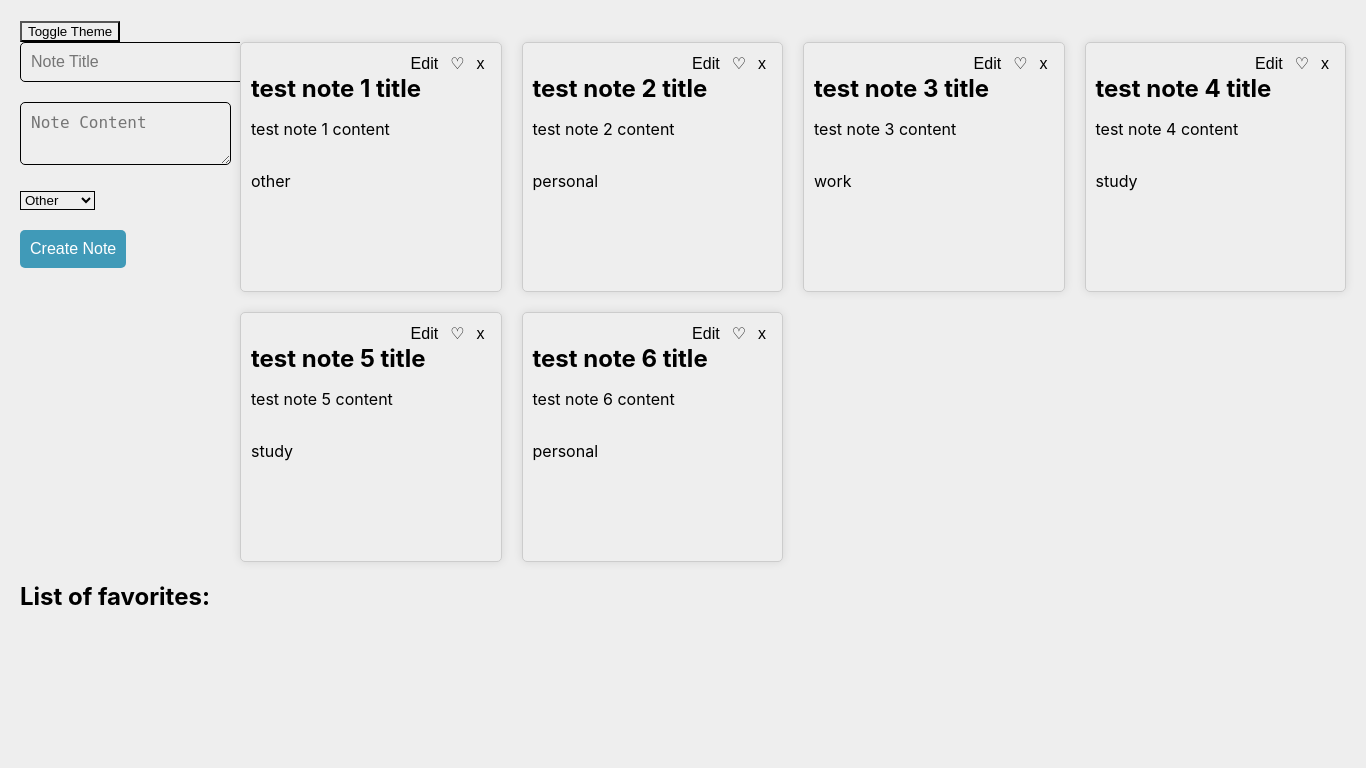
Test: Deleted Note › check if there are 0 sticky notes
This screenshot has width=1366, height=768.
Click the button named "delete-button". click: click(480, 64)
box: [470, 53, 490, 74]
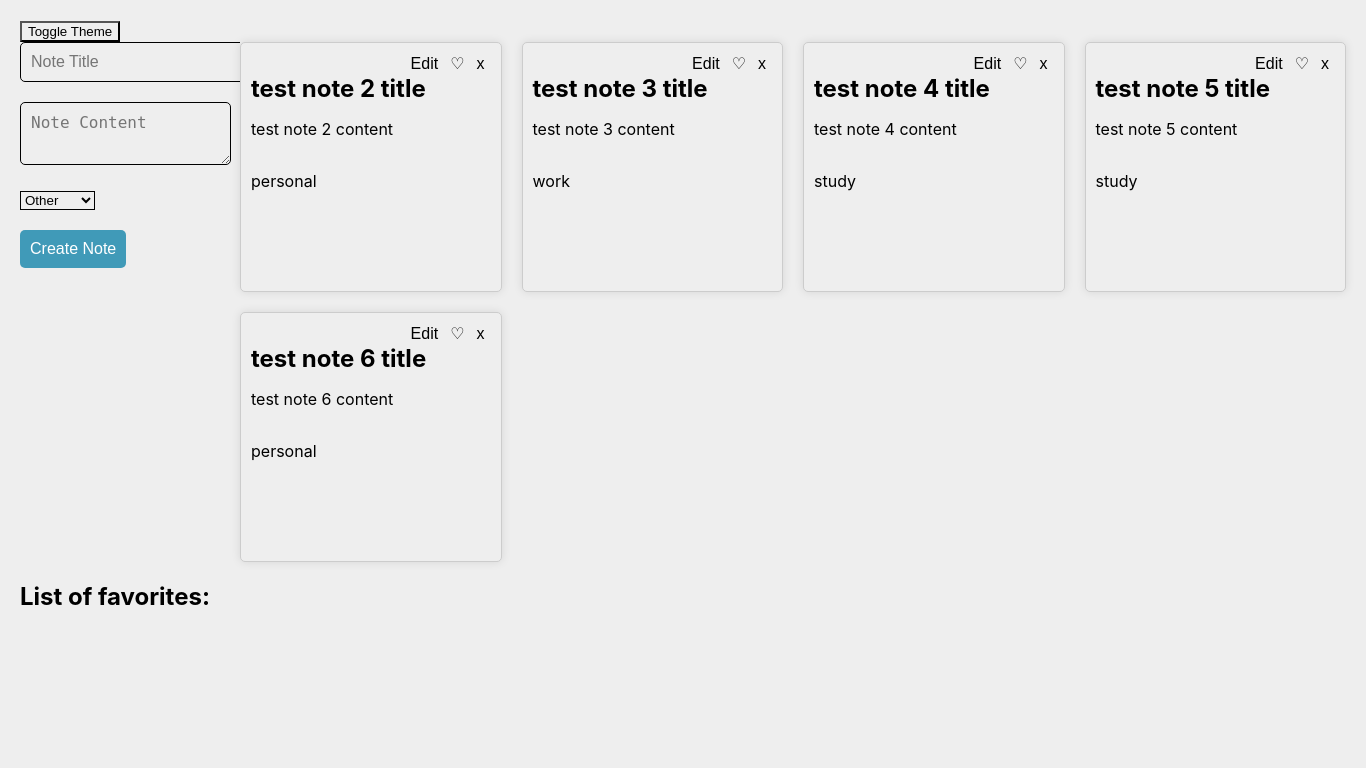
Result: the heading "test note 1 title" is gone
Click the button named "delete-button". click: click(480, 64)
box: [470, 53, 490, 74]
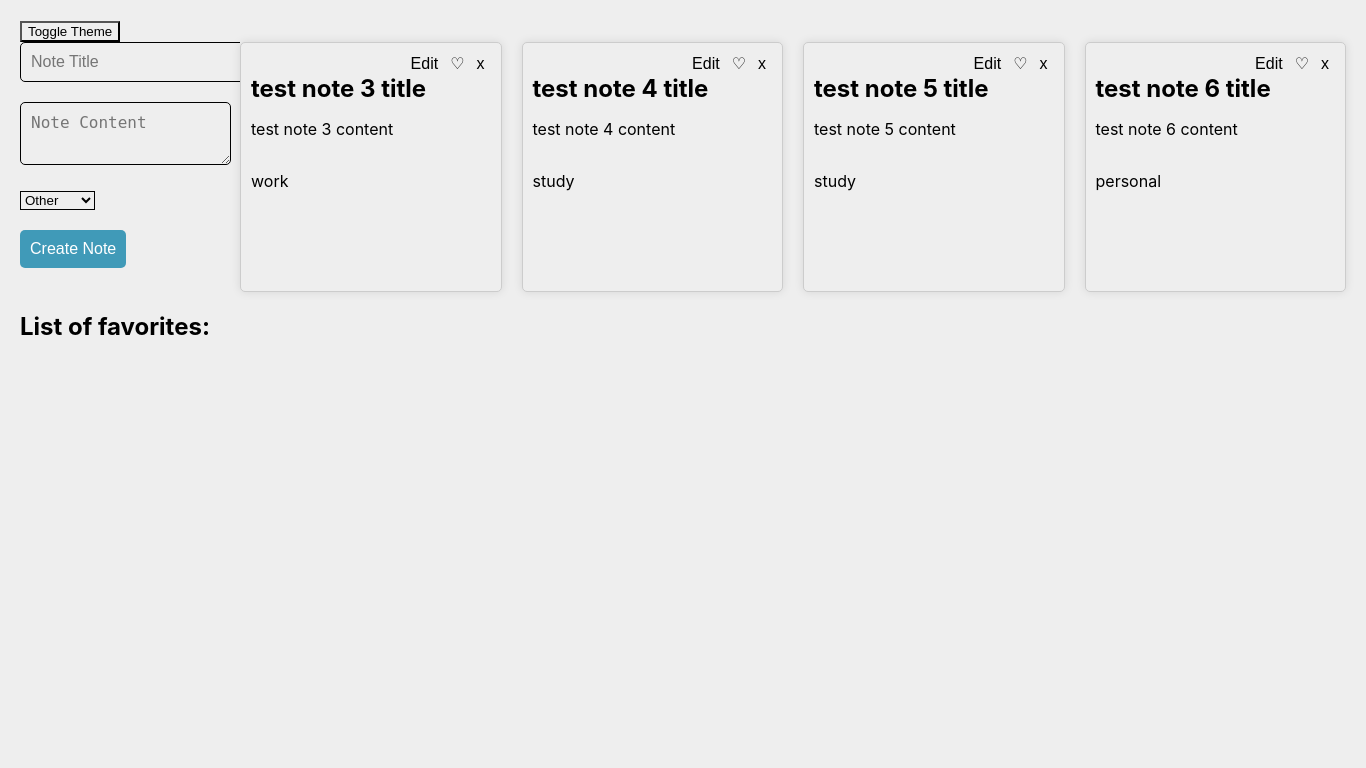
Result: the heading "test note 2 title" is gone
Click the button named "delete-button". click: click(480, 64)
box: [470, 53, 490, 74]
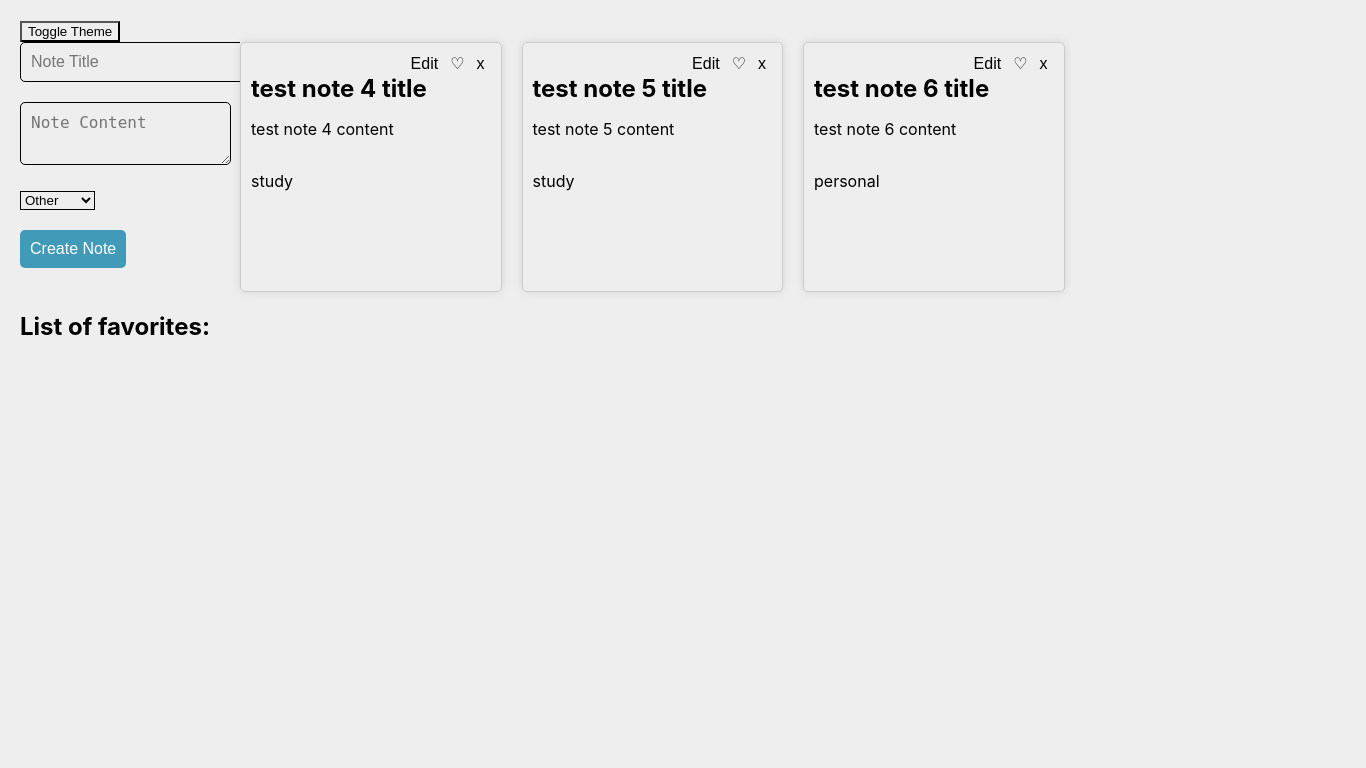
Result: the heading "test note 3 title" is gone
Click the button named "delete-button". click: click(480, 64)
box: [470, 53, 490, 74]
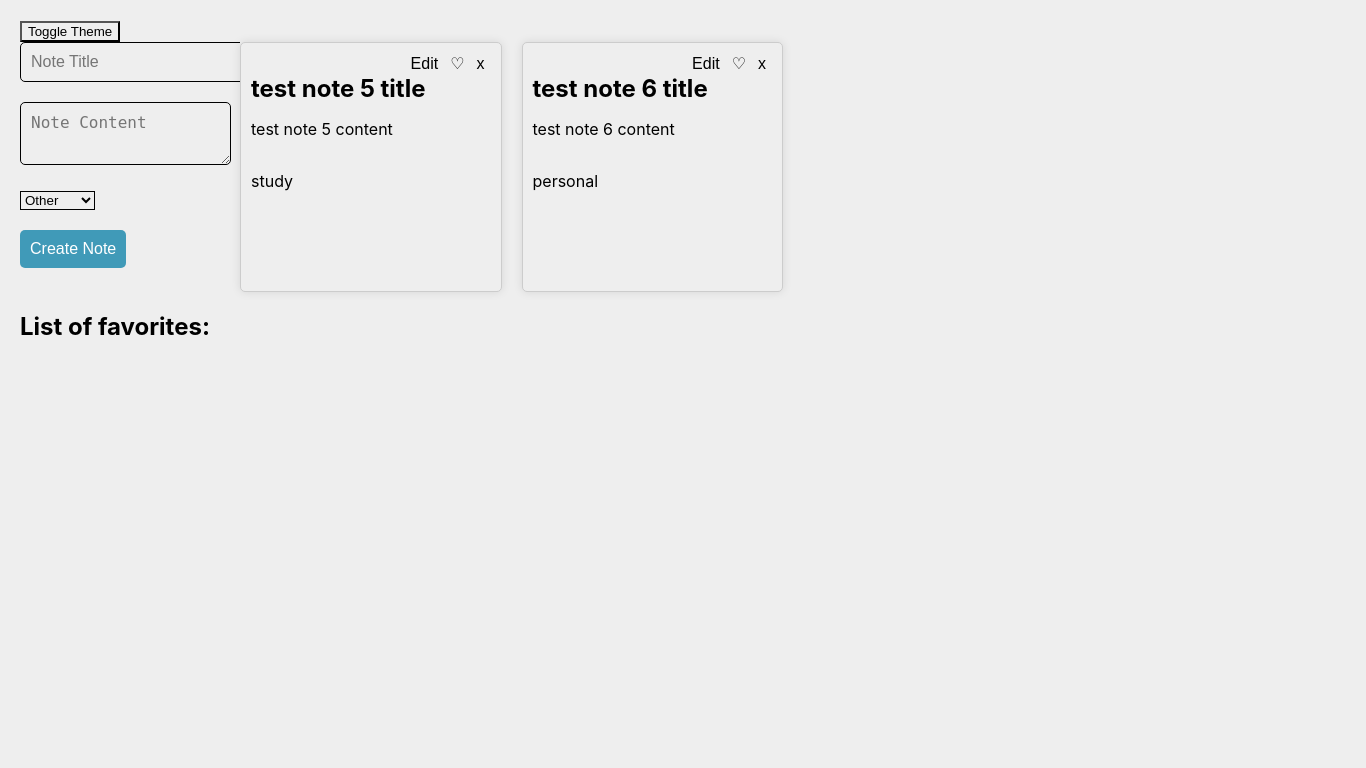
Result: the heading "test note 4 title" is gone
Click the button named "delete-button". click: click(480, 64)
box: [470, 53, 490, 74]
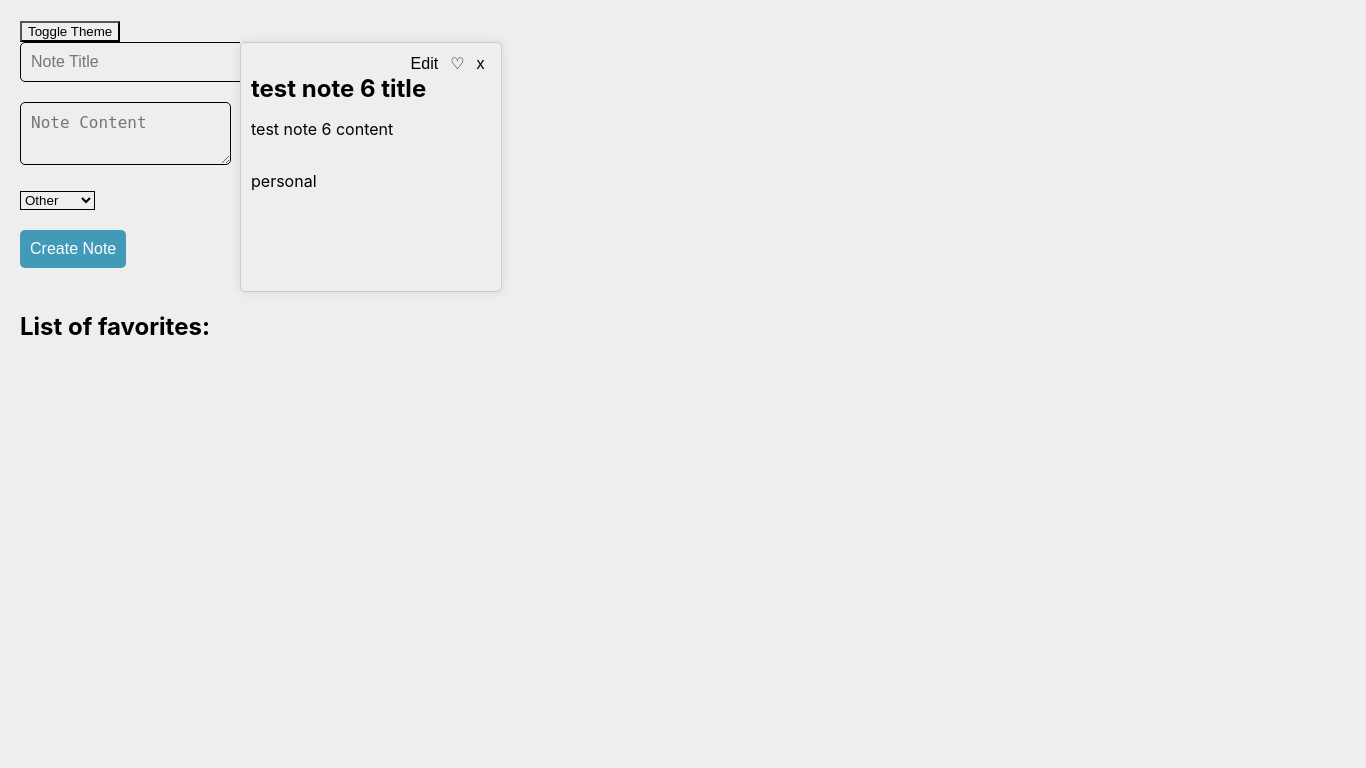
Result: the heading "test note 5 title" is gone
Click the button named "delete-button". click: click(480, 64)
box: [470, 53, 490, 74]
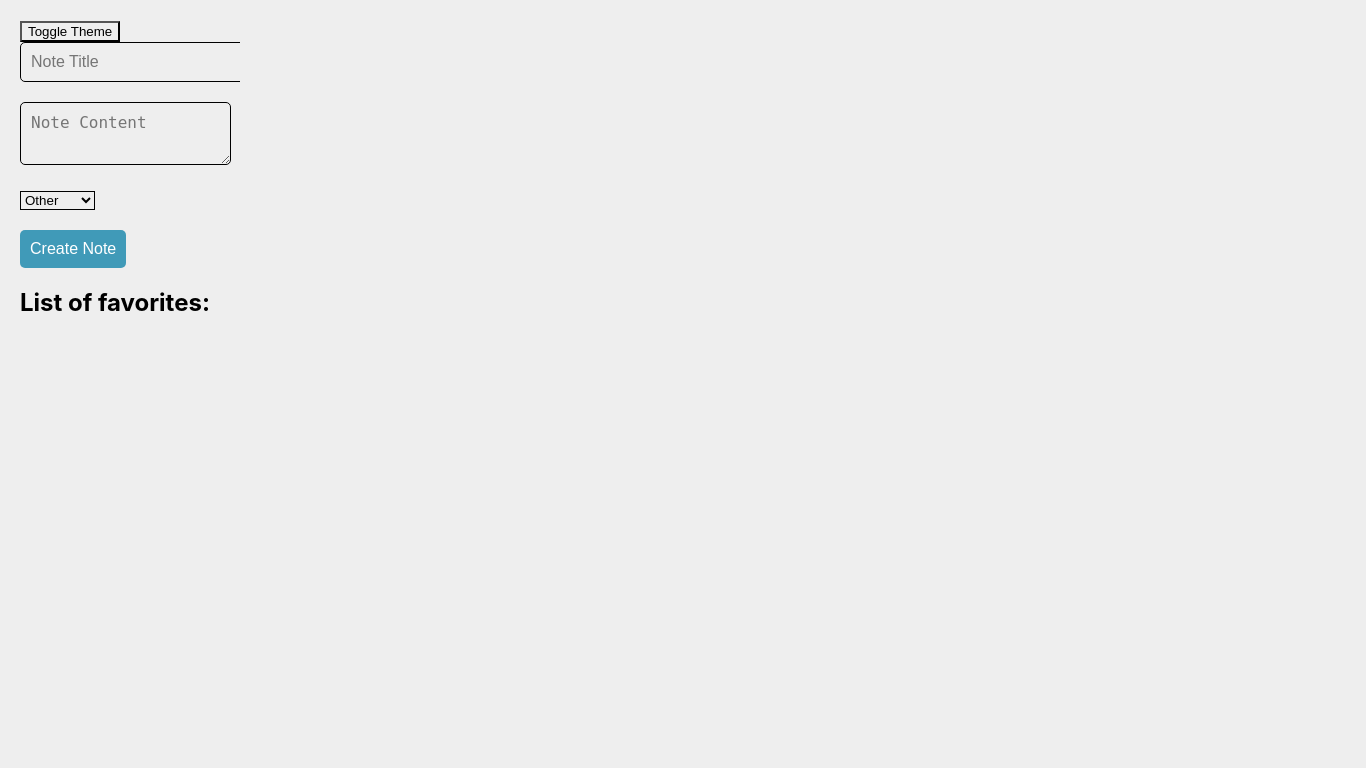
Result: no headings "title" are shown
